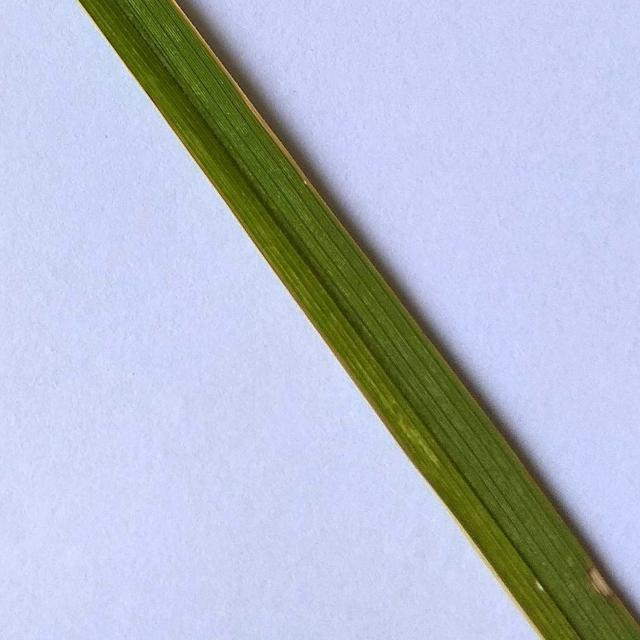Blast: (590, 566, 611, 608), (298, 177, 312, 187)
